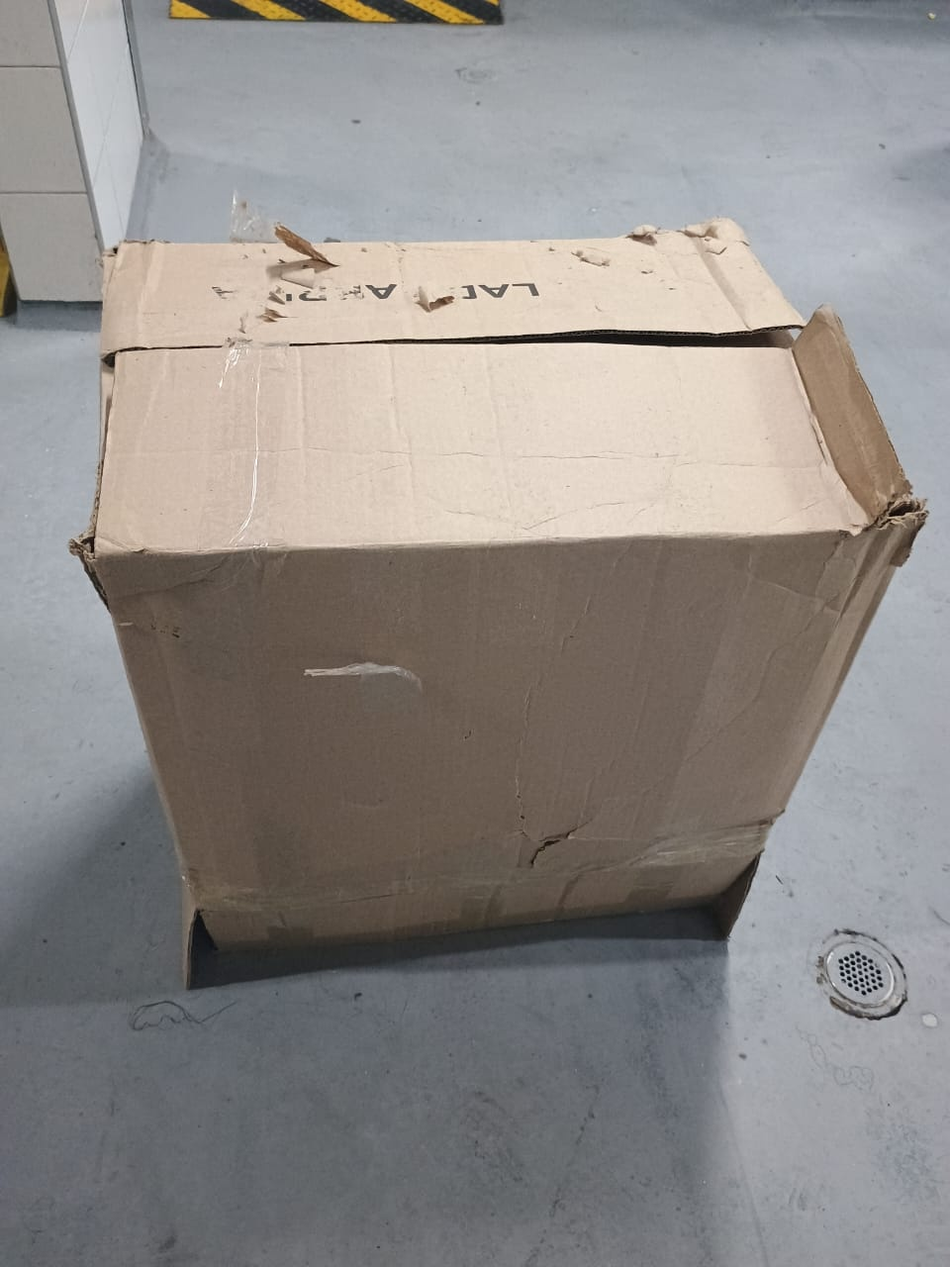Carton: (74, 219, 933, 991)
